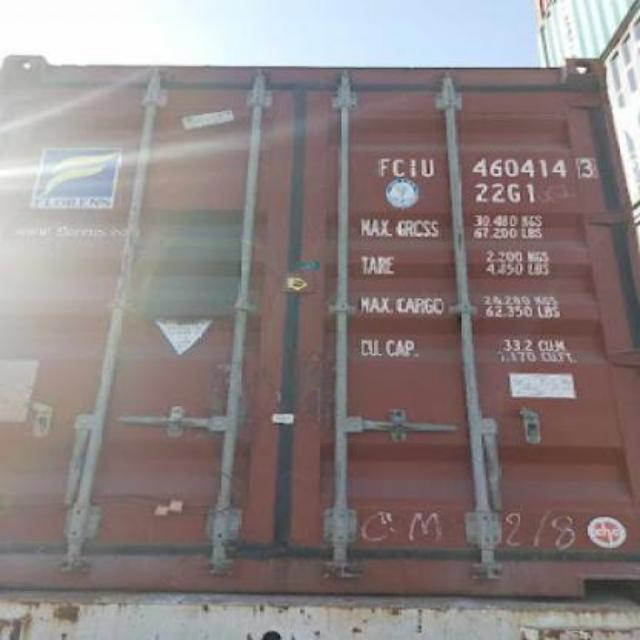0: (502, 156, 520, 178)
1: (538, 156, 552, 178)
3: (578, 156, 598, 180)
4: (466, 156, 490, 178), (520, 156, 538, 178), (552, 156, 568, 178)
6: (490, 156, 502, 178)
C: (392, 156, 408, 178)
F: (376, 156, 392, 177)
I: (408, 156, 420, 178)
U: (420, 156, 438, 180)
